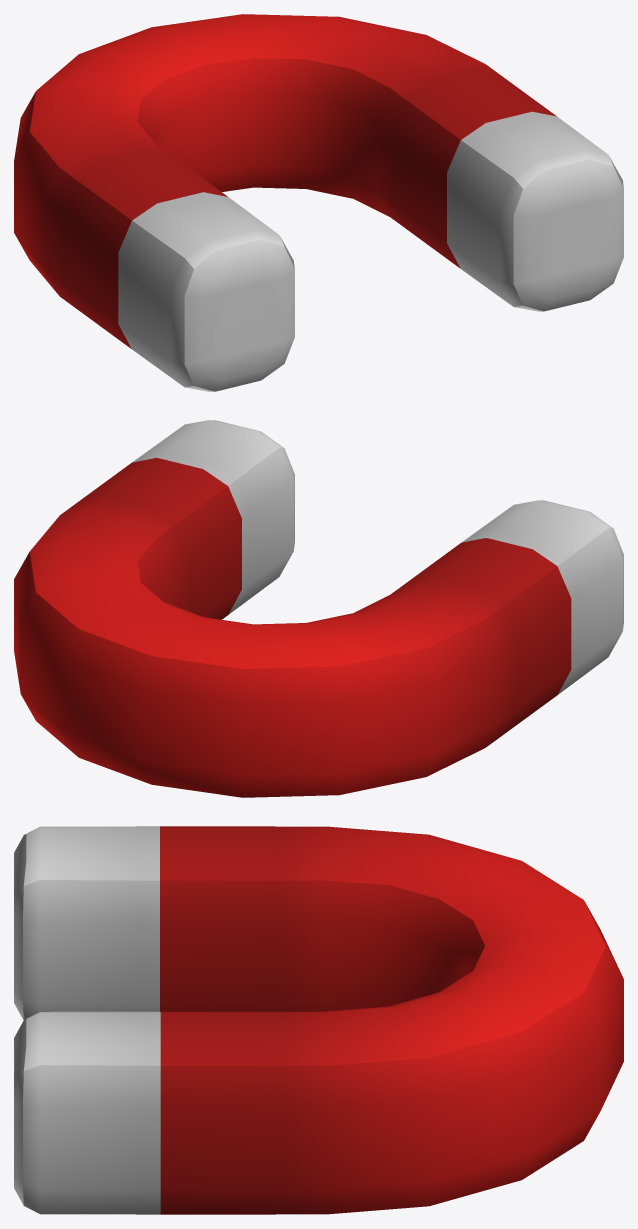
File: MagnetRed.fbx
The picture shows the model from 3 angles, top to bottom: view 1: azimuth 30°, elevation 25°; view 2: azimuth 150°, elevation 25°; view 3: azimuth 270°, elevation 25°; orthographic projection. The views are drawn at different scales.
Parts seen in each view (by area): view 1: MagnetRed; view 2: MagnetRed; view 3: MagnetRed.
Boxes of the visible parts, x1=… form: MagnetRed: x1=14, y1=14, x2=623, y2=391; MagnetRed: x1=14, y1=420, x2=623, y2=797; MagnetRed: x1=14, y1=826, x2=623, y2=1214.
Bounding box in the file's own units: 45.5 × 14.5 × 46.02.
